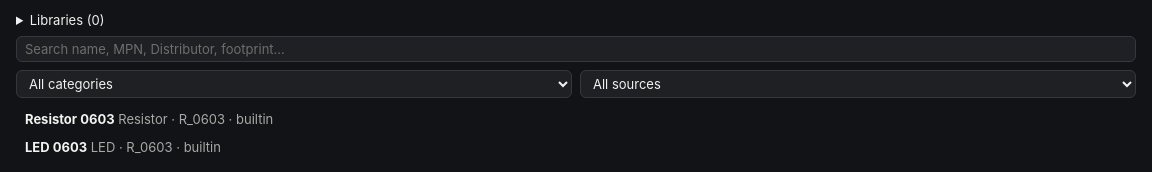
Test case: LibraryPanel › searches through the engine IPC and filters by category
Expected: the text "LED 0603" is shown, x1=25 y1=139 x2=87 y2=155
Type "led" into the field named "Search library".
click(576, 49); type("led")  # box x1=16 y1=36 x2=1136 y2=62
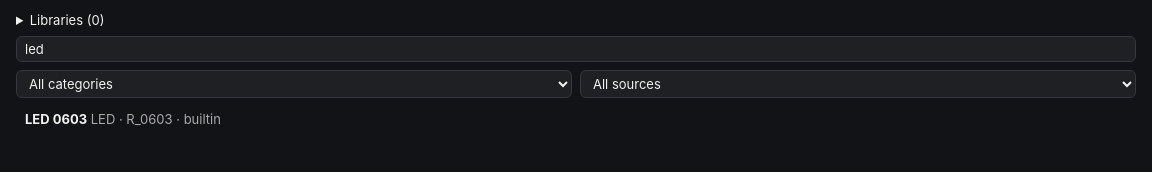
Now the button "Resistor 0603" is gone
Clear the field named "Search library" at (576,49), box x1=16 y1=36 x2=1136 y2=62
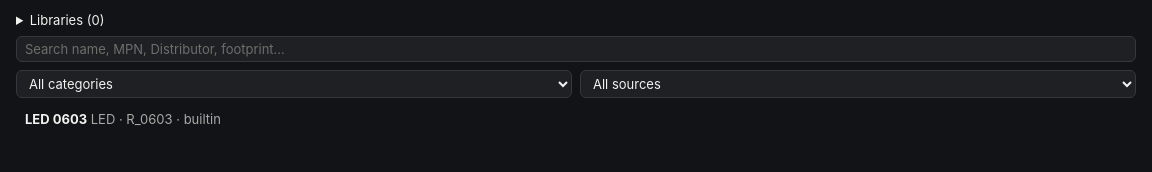
Select "Resistor" in the dropdown named "Category filter" at (294,84), box x1=16 y1=70 x2=572 y2=98
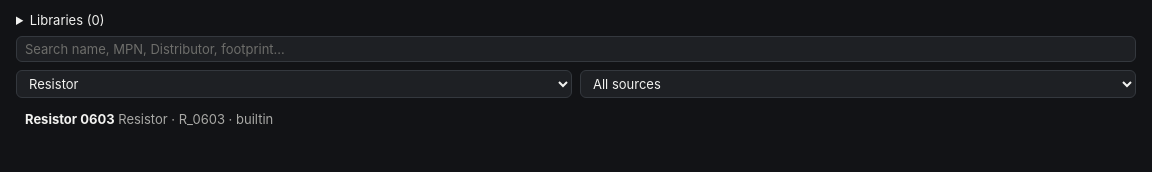
Now the button "LED 0603" is gone
